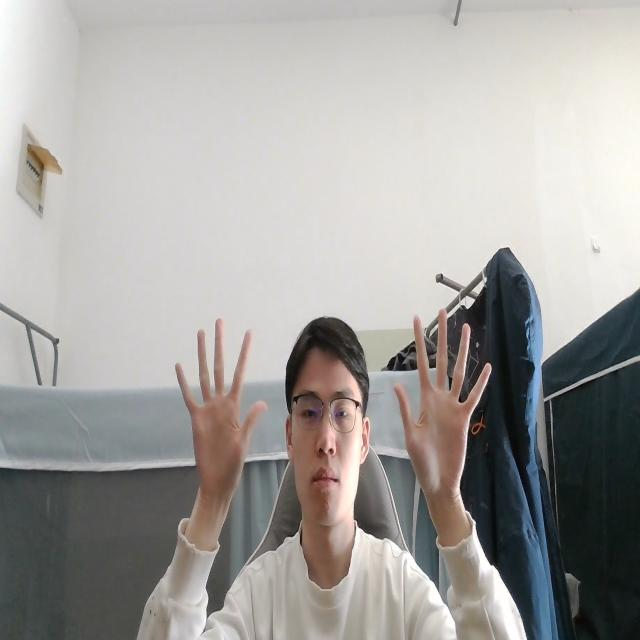five: (394, 305, 492, 506), (173, 312, 267, 511)
